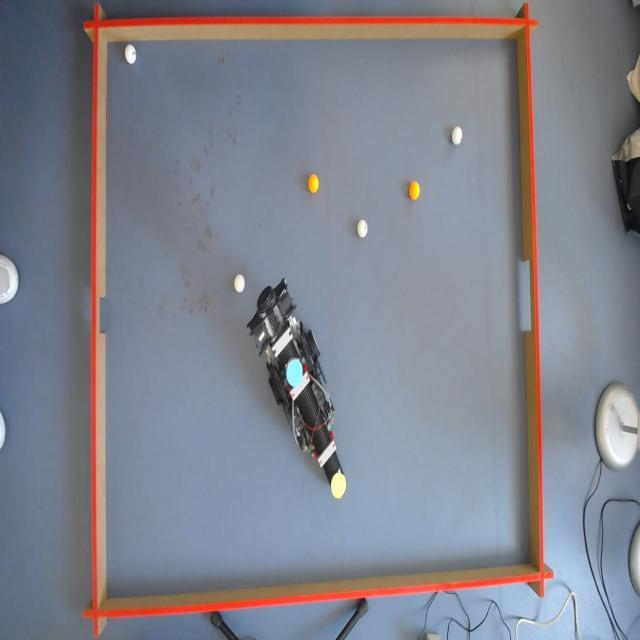orange: (307, 173, 320, 194), (409, 182, 422, 202)
robot: (242, 282, 348, 499)
robot-front: (330, 477, 346, 497)
robot-rear: (286, 356, 304, 390)
white: (451, 125, 464, 146), (234, 272, 247, 292), (124, 45, 136, 65), (356, 220, 368, 240)
